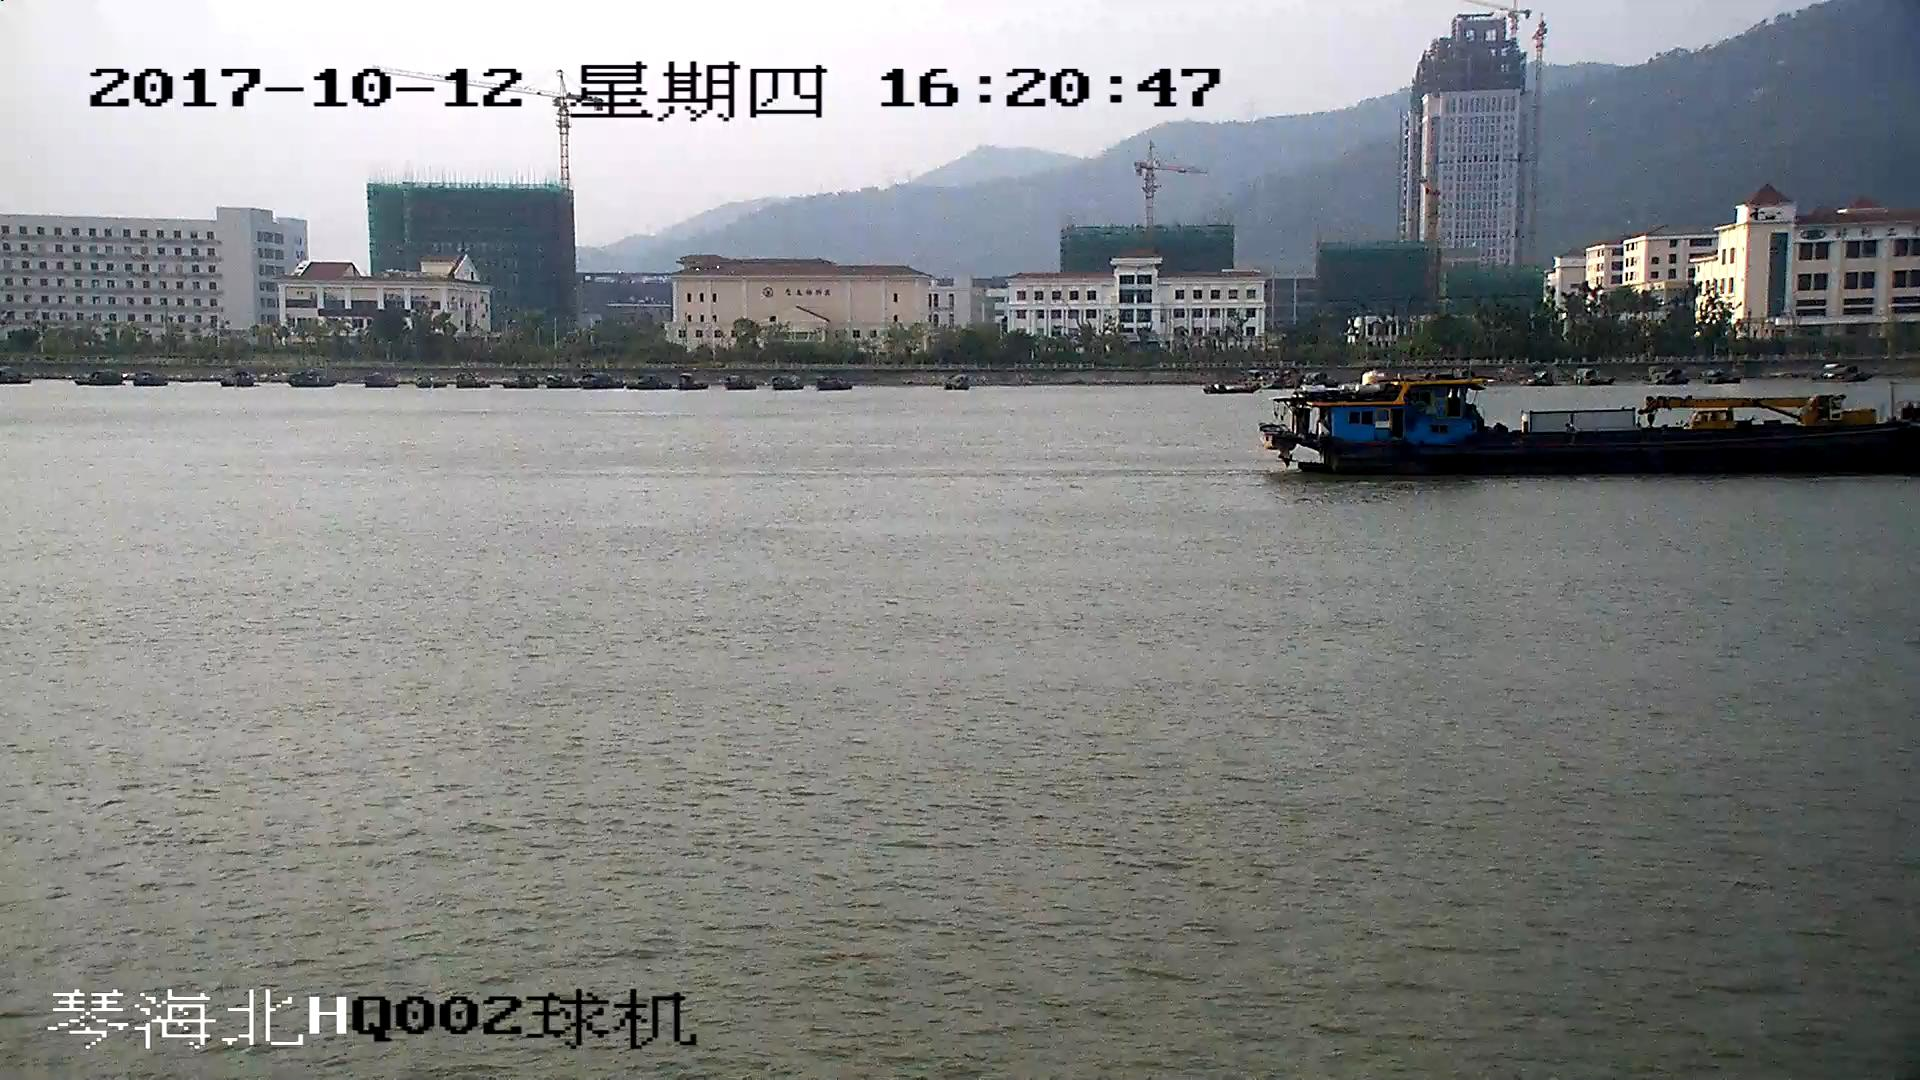fishing boat: (1260, 373, 1920, 479)
